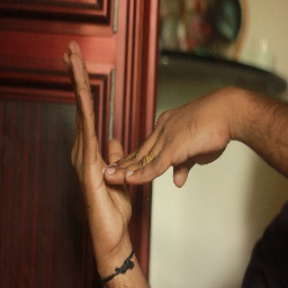Z: (57, 36, 230, 246)
